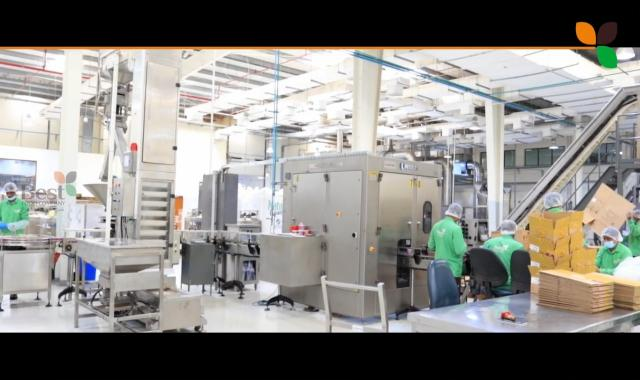hairnet: (602, 226, 626, 244), (543, 191, 562, 209), (445, 201, 462, 219), (501, 220, 516, 236), (4, 182, 16, 197)
